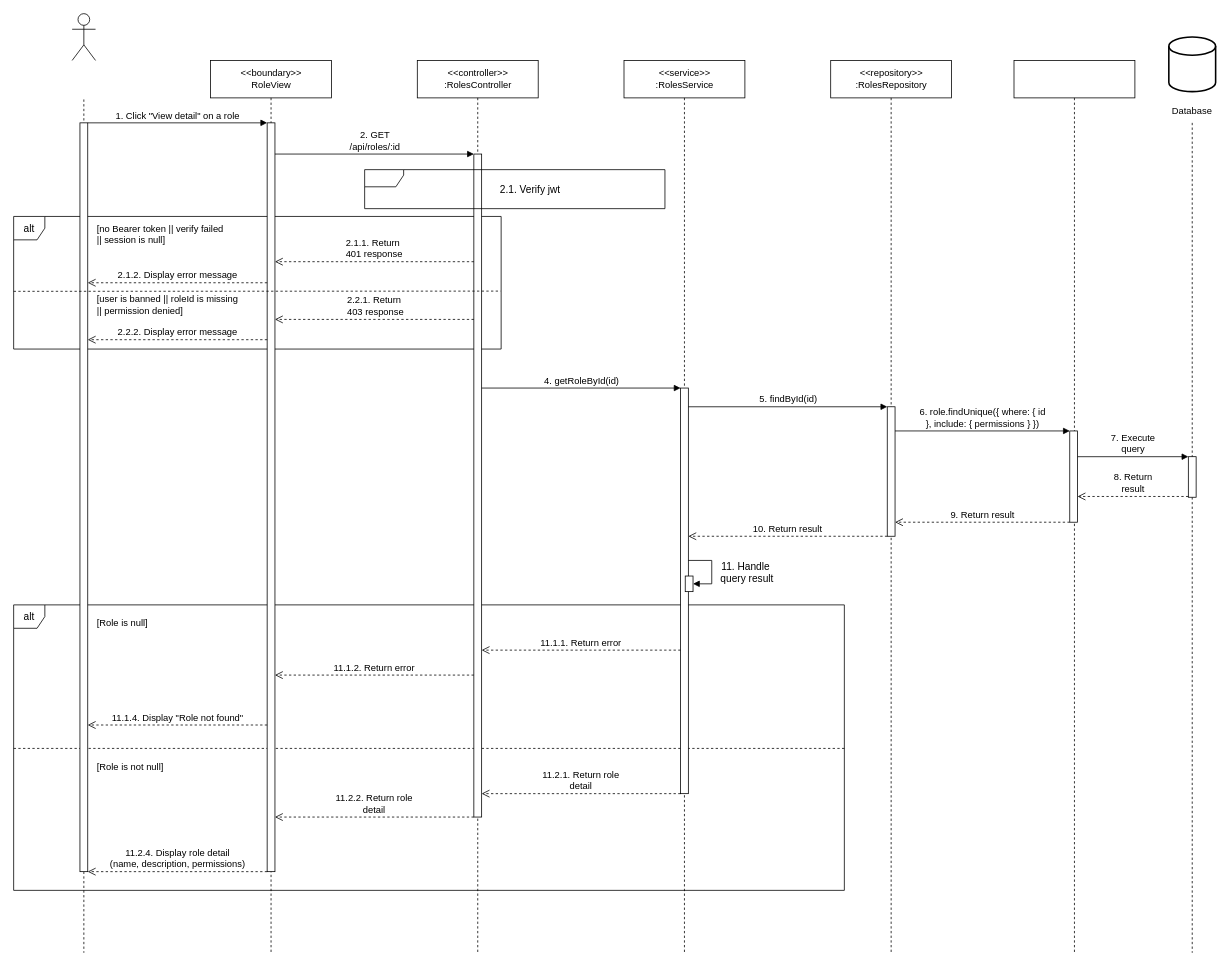
Image size: 1230x967. Some labels were removed from this diagram. The box of each missing label's shape, as (x1, y1, x2, y2) in pixels:
<<service>> :PrismaService: (1013, 60, 1135, 953)
Admin: (71, 13, 96, 60)
ref: (364, 169, 665, 209)
